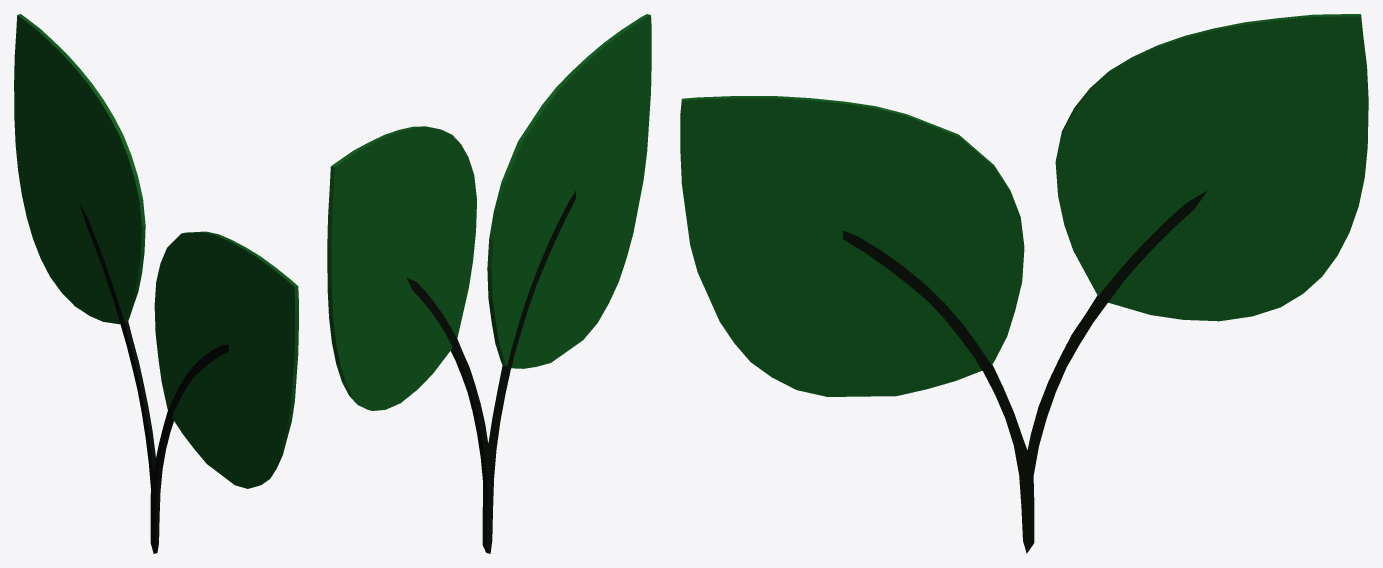
File: EarthElementalOrb (1).fbx
3 views of the same model, side by side, from view 1: azimuth 30°, elevation 25°; view 2: azimuth 150°, elevation 25°; view 3: azimuth 270°, elevation 25° (orthographic). The views are drawn at different scales.
Visible parts, largest first — view 1: Earth_Pickup; view 2: Earth_Pickup; view 3: Earth_Pickup.
Part boxes in pixels (bbox=[...]): Earth_Pickup: bbox=[14, 14, 298, 553]; Earth_Pickup: bbox=[327, 14, 651, 553]; Earth_Pickup: bbox=[680, 14, 1368, 553].
Bounding box in the file's own units: 0.5452 × 60.78 × 70.51.
